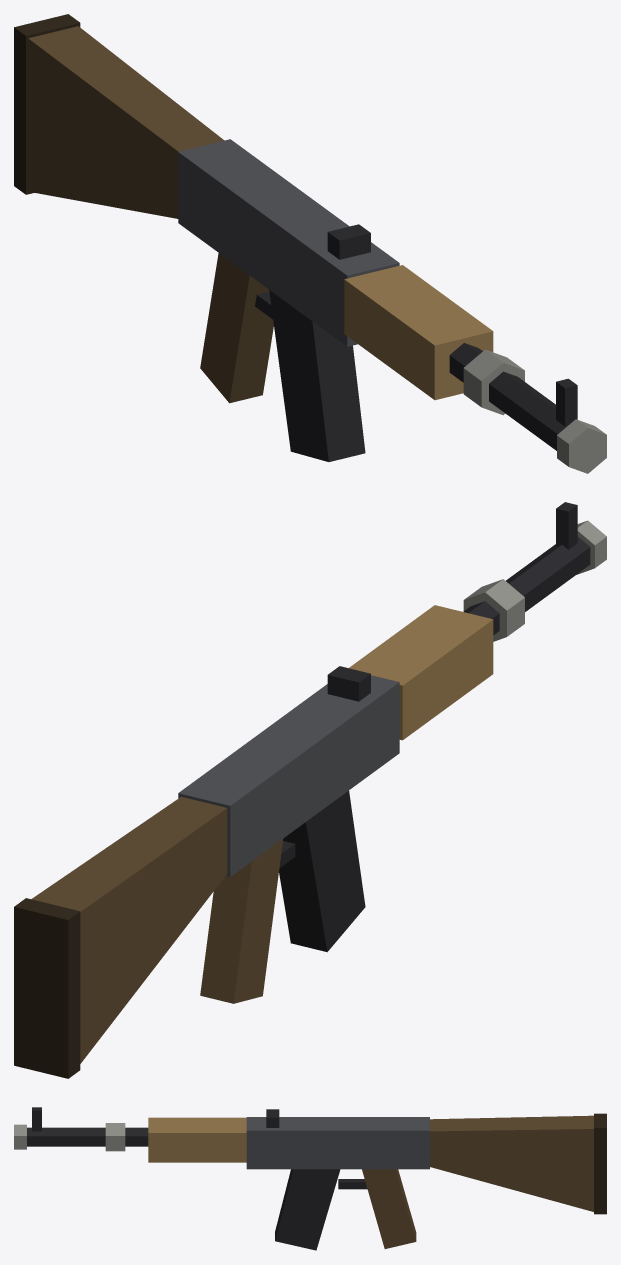
Rendered from rifle.glb.
3 renders of one model, top to bottom at view 1: azimuth 30°, elevation 25°; view 2: azimuth 150°, elevation 25°; view 3: azimuth 270°, elevation 25°, orthographic. The views are drawn at different scales.
Parts seen in each view (by area): view 1: rifle; view 2: rifle; view 3: rifle.
Part boxes in pixels (bbox=[...]): rifle: bbox=[14, 14, 606, 473]; rifle: bbox=[14, 502, 606, 1078]; rifle: bbox=[14, 1107, 606, 1250].
Bounding box in the file's own units: 0.056 × 0.2304 × 0.905.
